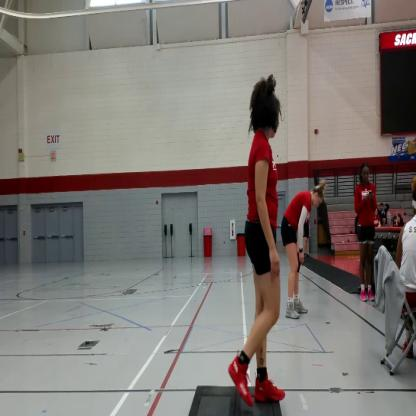lateral_flexion_left: (226, 74, 294, 416)
stance_width_broad: (231, 134, 288, 416)
